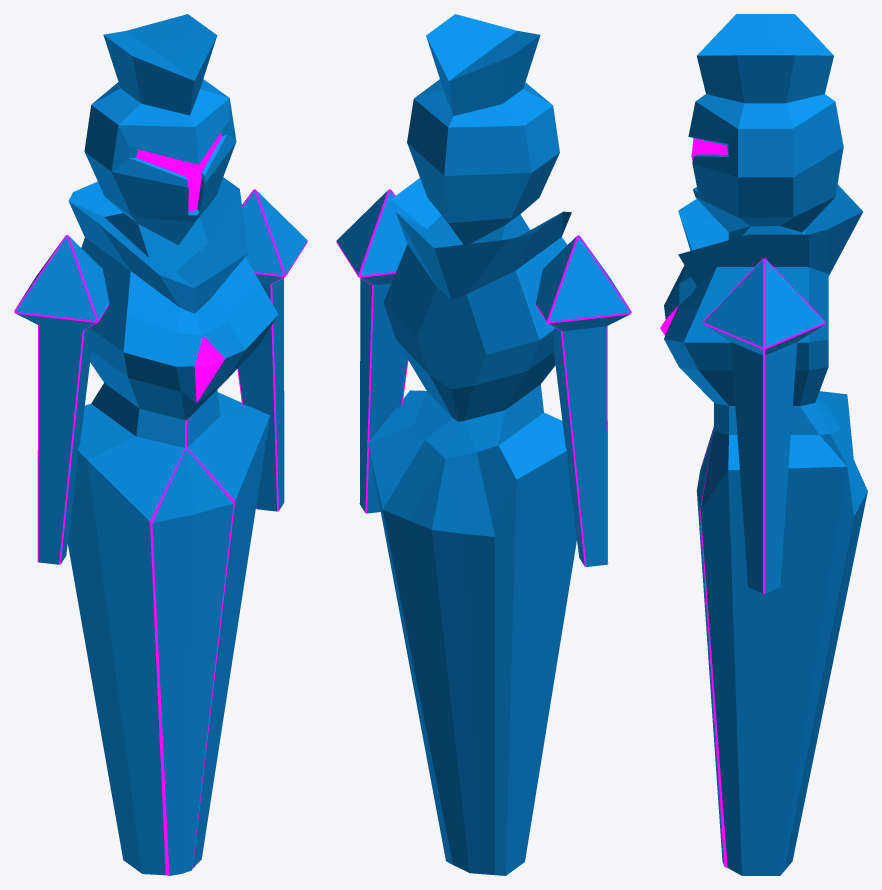
The model's file is Queen_white.glb.
3 renders of one model, left to right at view 1: azimuth 30°, elevation 25°; view 2: azimuth 150°, elevation 25°; view 3: azimuth 270°, elevation 25°, orthographic.
Parts seen in each view (by area): view 1: tz; view 2: tz; view 3: tz.
Boxes of the visible parts, box(x1,y1,x2,y2) form: tz: box(14, 14, 307, 875); tz: box(336, 14, 631, 875); tz: box(660, 14, 867, 875).
Size of what is drawn, in the model's own units: 0.6806 by 1.83 by 0.4172.
